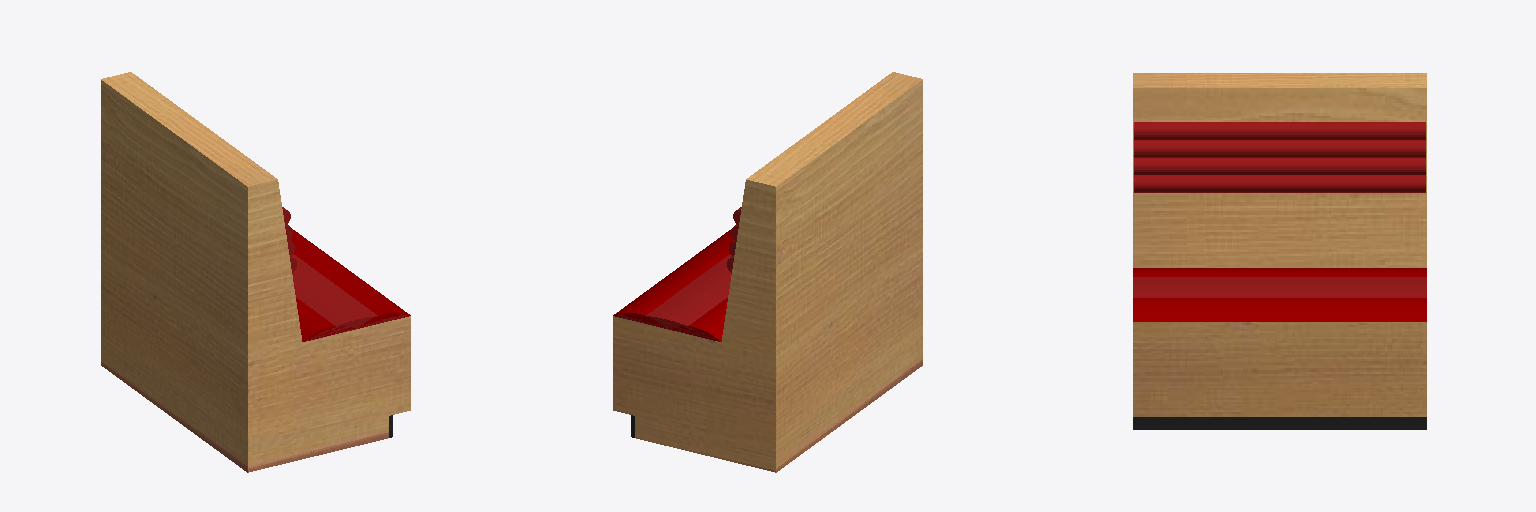
3 renders of one model, left to right at view 1: azimuth 30°, elevation 25°; view 2: azimuth 150°, elevation 25°; view 3: azimuth 270°, elevation 25°, orthographic.
Visible parts, largest first — view 1: mesh6_mesh6-geometry, mesh11_mesh11-geometry, mesh3_mesh3-geometry; view 2: mesh6_mesh6-geometry, mesh11_mesh11-geometry, mesh3_mesh3-geometry; view 3: mesh6_mesh6-geometry, mesh11_mesh11-geometry, mesh3_mesh3-geometry, mesh8.004_mesh8-geometry, mesh8.002_mesh8-geometry, mesh8.001_mesh8-geometry, mesh8.003_mesh8-geometry, mesh1_mesh1-geometry.
Part boxes in pixels (x1,y1,x2,y2): mesh6_mesh6-geometry: (101, 72, 410, 472); mesh11_mesh11-geometry: (290, 230, 410, 341); mesh3_mesh3-geometry: (292, 254, 406, 340); mesh6_mesh6-geometry: (613, 72, 922, 472); mesh11_mesh11-geometry: (613, 230, 733, 341); mesh3_mesh3-geometry: (618, 254, 731, 341); mesh6_mesh6-geometry: (1133, 73, 1426, 416); mesh11_mesh11-geometry: (1133, 268, 1426, 321); mesh3_mesh3-geometry: (1133, 277, 1426, 297); mesh8.004_mesh8-geometry: (1134, 175, 1425, 192); mesh8.002_mesh8-geometry: (1134, 140, 1425, 157); mesh8.001_mesh8-geometry: (1134, 122, 1425, 139); mesh8.003_mesh8-geometry: (1134, 158, 1425, 174); mesh1_mesh1-geometry: (1133, 417, 1426, 429).
Bounding box in the file's own units: 0.4016 × 0.6698 × 0.6245.
4 materials, 1 textured.